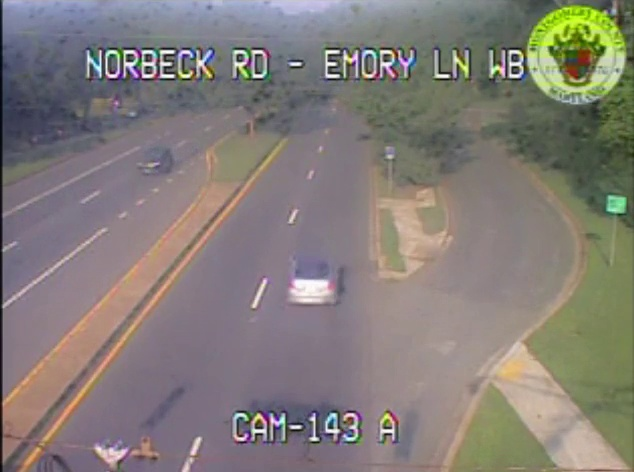car: (289, 258, 337, 305)
